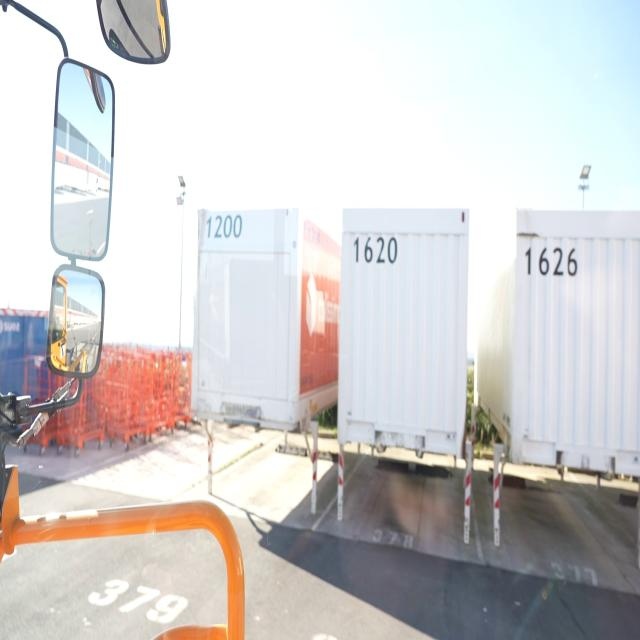Code: (523, 242, 580, 286), (351, 230, 398, 270), (204, 211, 247, 247)
